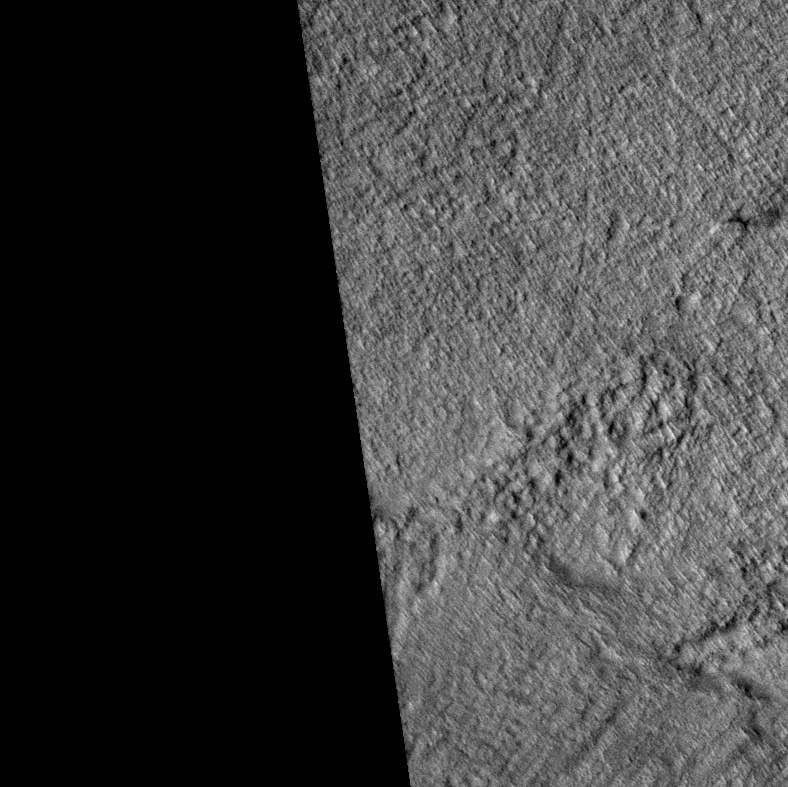dust_devil: (706, 203, 784, 235)
